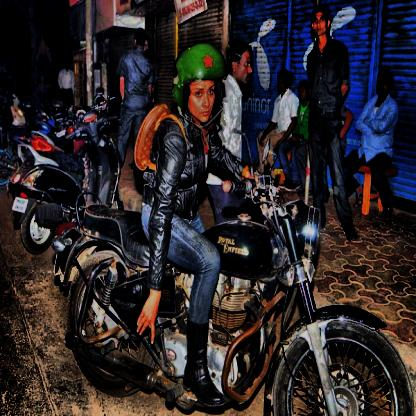not_wear: (228, 43, 248, 86), (313, 8, 328, 42), (378, 72, 392, 108), (297, 82, 308, 100), (278, 72, 288, 90)
wear: (173, 49, 225, 124)
